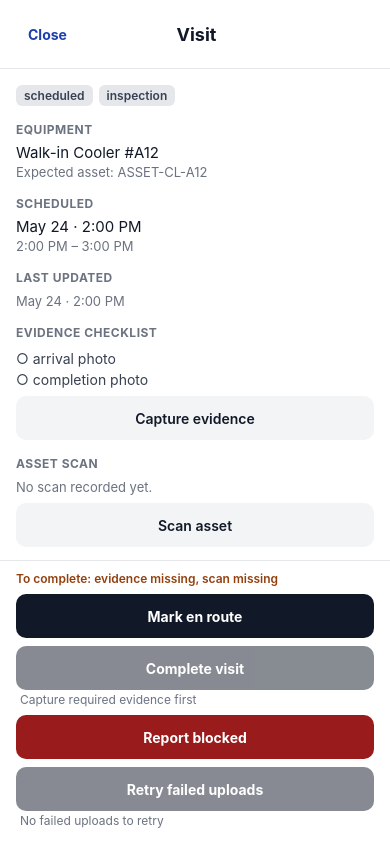
Test: VisitDetailSheet › Report blocked opens the reason input panel
Click the button labelled "Report blocked": (195,737) [16,715,374,759]
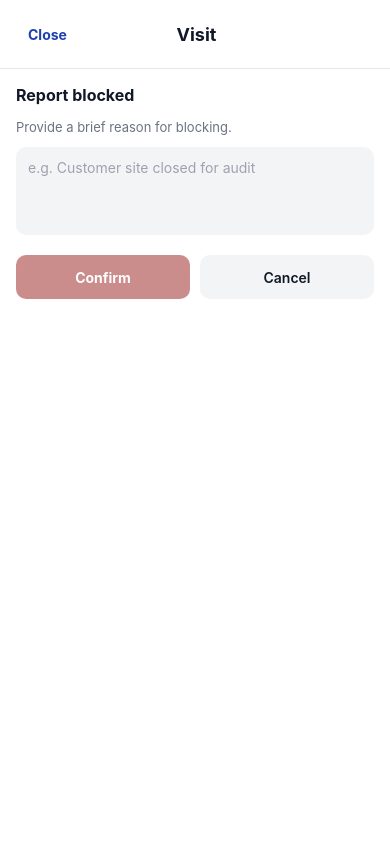
expect the text "Report blocked" is shown: met, box [16,85,134,105]
expect the text box named "Blocked reason" is shown: met, box [16,147,374,235]
